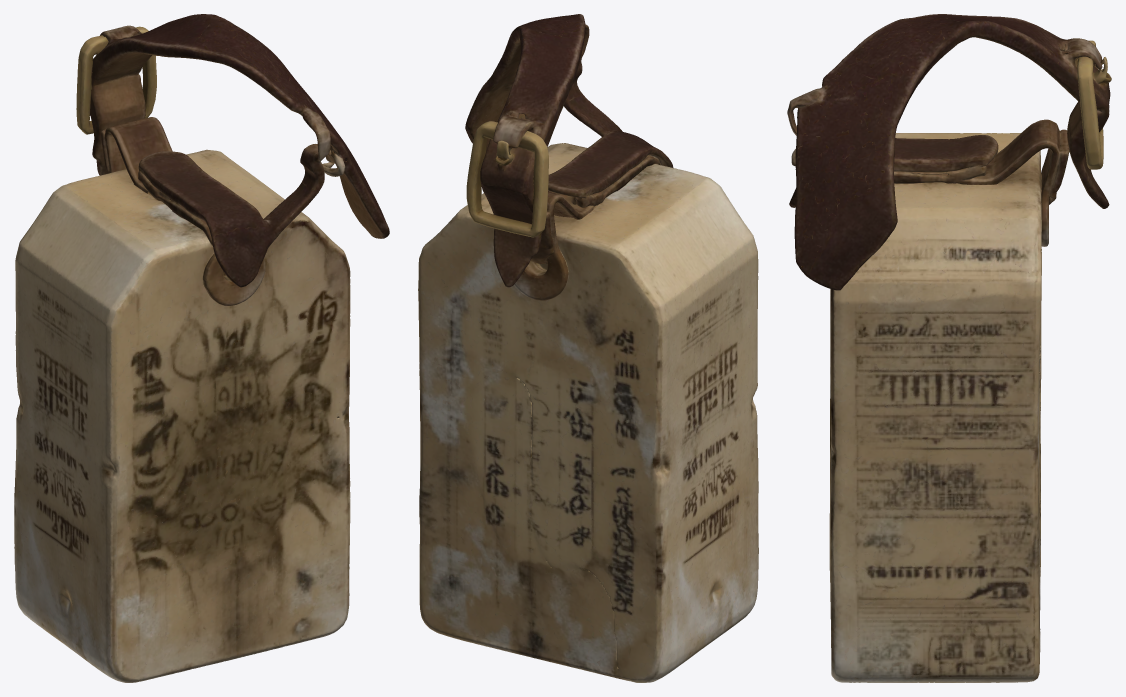
The model's file is titanic_tag.glb.
3 views of the same model, side by side, from view 1: azimuth 30°, elevation 25°; view 2: azimuth 150°, elevation 25°; view 3: azimuth 270°, elevation 25° (orthographic). The views are drawn at different scales.
Visible parts, largest first — view 1: world; view 2: world; view 3: world.
Part boxes in pixels (x1=…): world: x1=14, y1=14, x2=389, y2=682; world: x1=418, y1=14, x2=758, y2=682; world: x1=787, y1=14, x2=1111, y2=682.
Size of the model in its own units: 0.4847 by 1 by 0.4668.
1 material, 1 textured.
